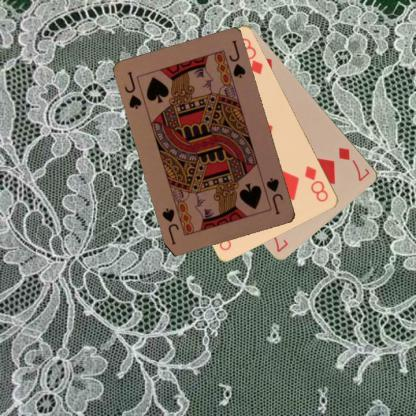7d: (336, 144, 372, 182)
8d: (302, 163, 330, 203)
Js: (122, 69, 143, 111), (264, 175, 285, 216)
